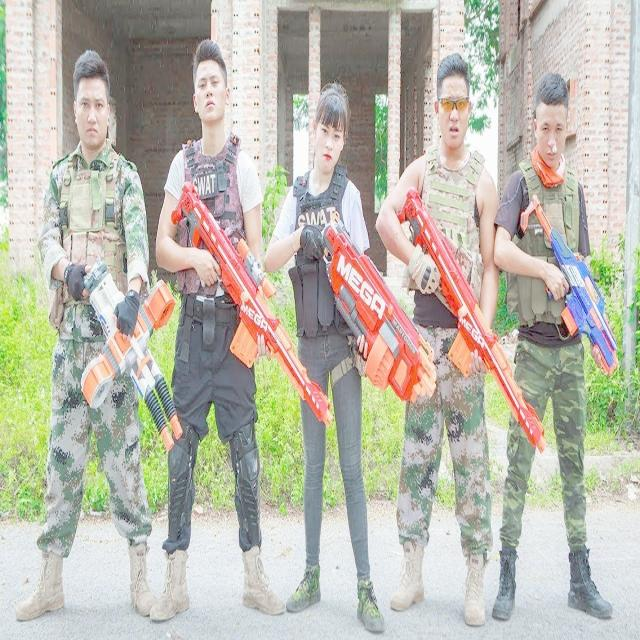Nerf gun: (395, 162, 547, 466), (167, 178, 335, 432), (305, 200, 440, 412), (69, 247, 190, 448), (519, 189, 626, 389)
